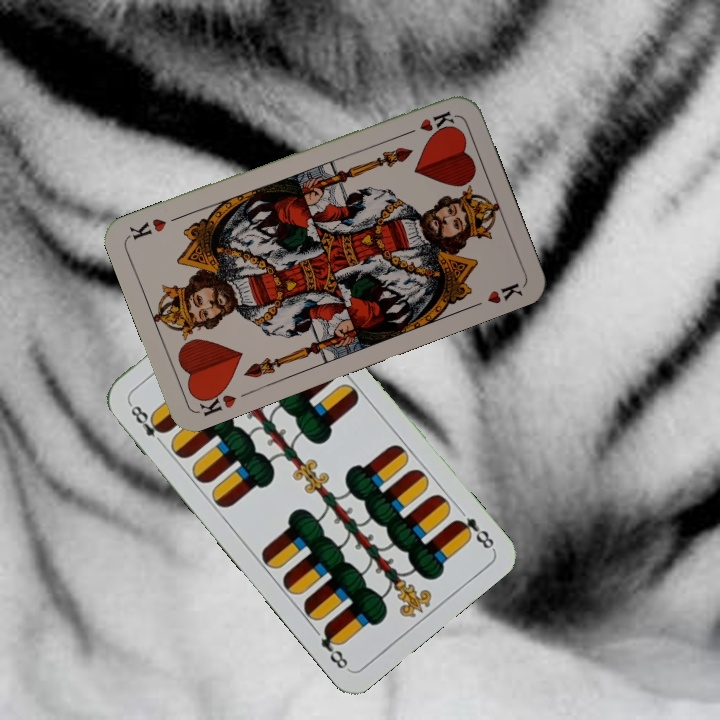E8: (125, 399, 169, 449), (450, 513, 497, 552)
HK: (399, 107, 458, 139), (191, 383, 239, 419)
